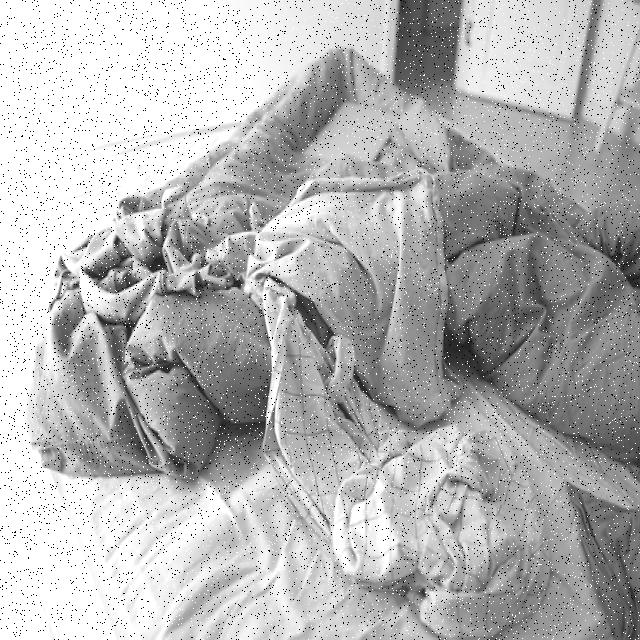bed: (17, 57, 640, 640)
